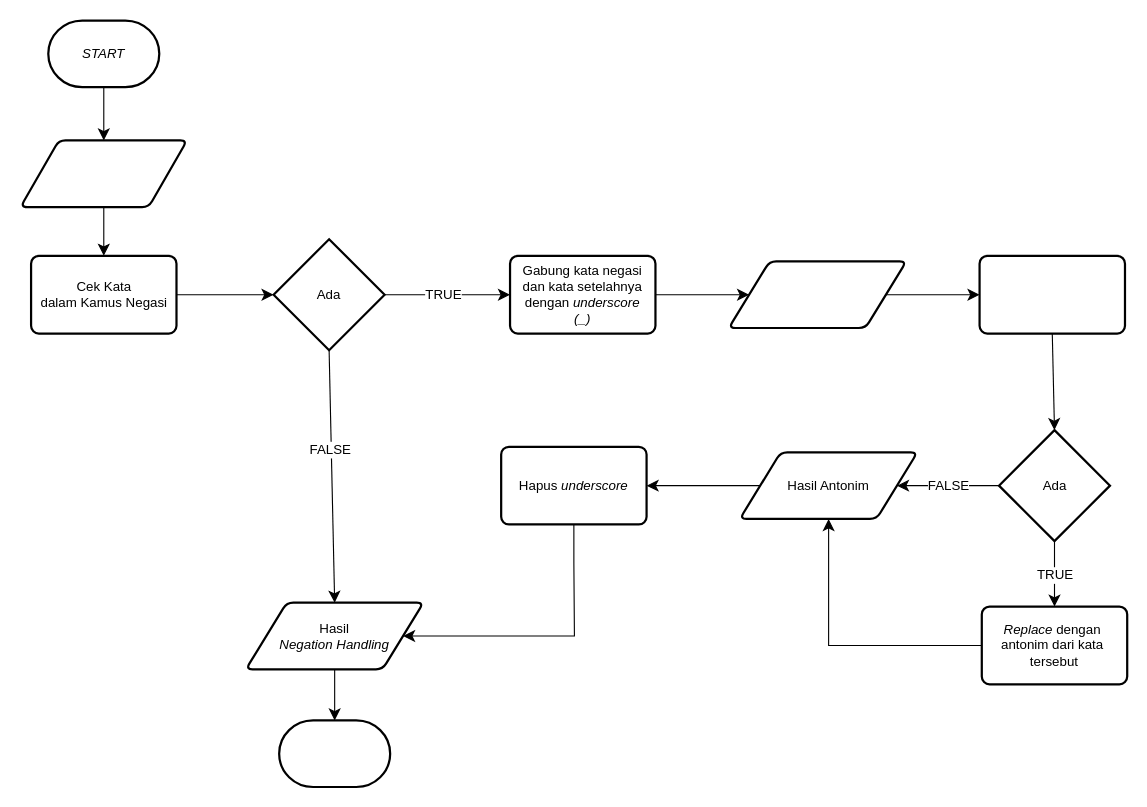
This 1147x807 diagram has some shape labels left out. The centre of each missing label's shape, as x and y in pixels:
Cek Kata dalam Kamus Antonim: point 1052,294
END: point 334,753
Hasil Gabungan Kata: point 817,294
Hasil Pembakuan Kata: point 103,173
